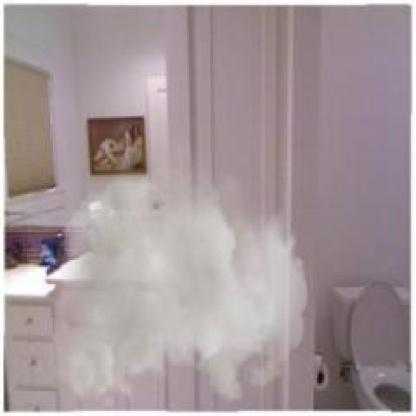Smoke: (48, 135, 308, 413)
